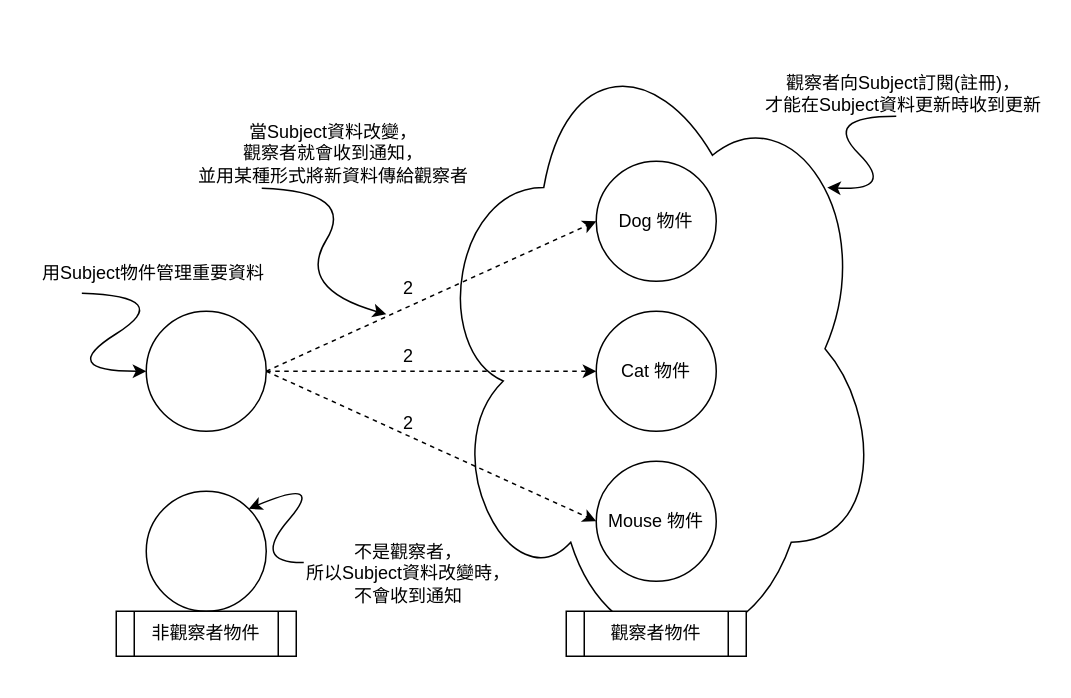
The diagram is 1071 pixels wide and 698 high, and some of its shapes have lost their labels. Each missing label, with the centre of its shape:
"Duck 物件" belongs at (205,550).
"Subject 物件" belongs at (205,370).
